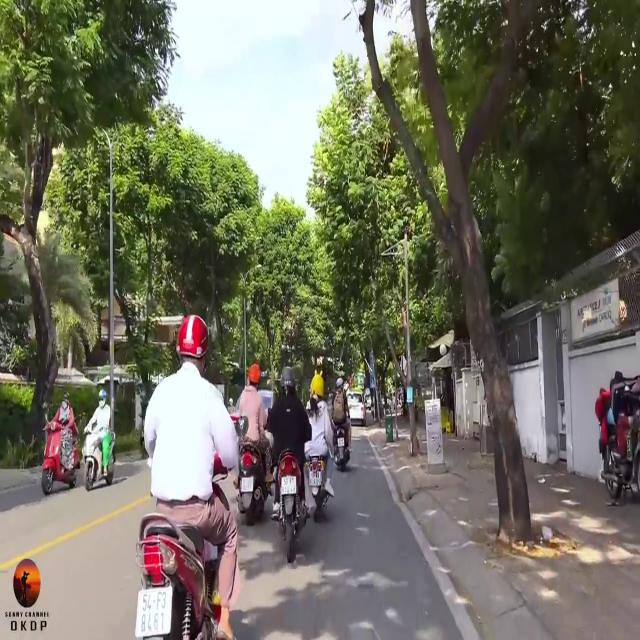bien_trang: (138, 586, 173, 636)
